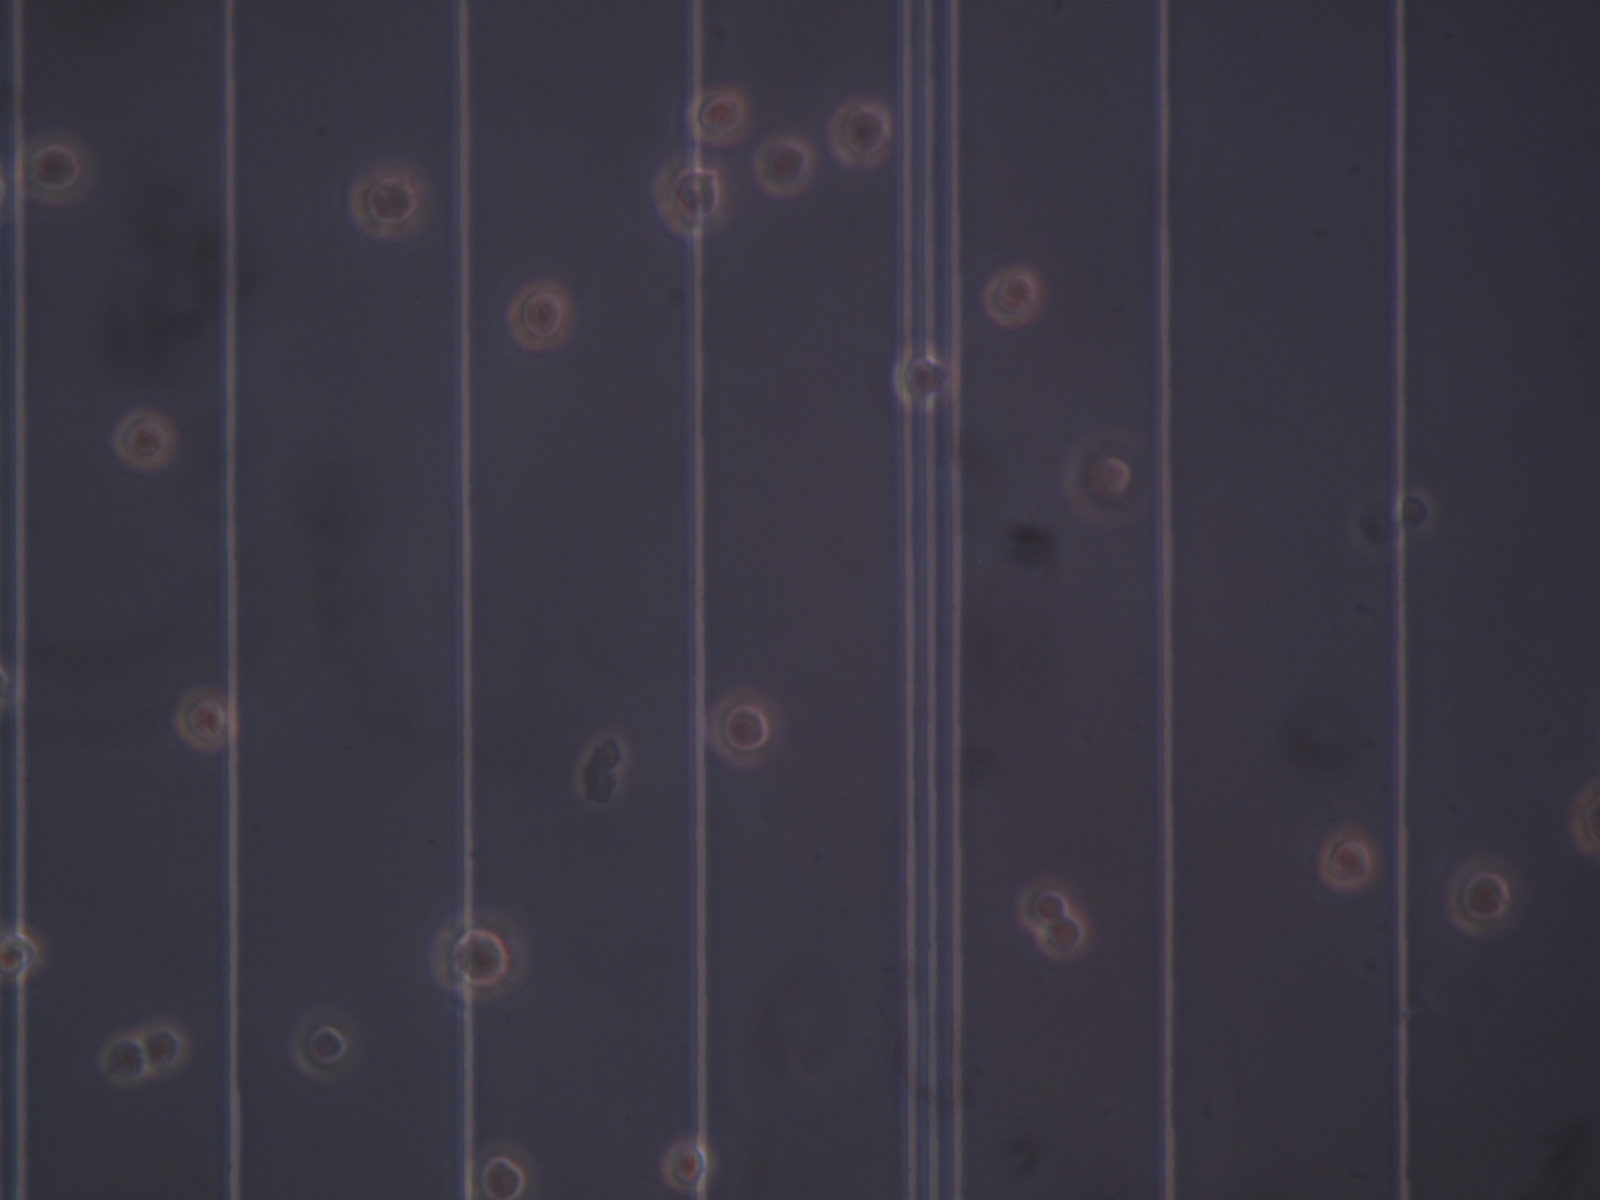hemo: (430, 908, 529, 1003), (346, 159, 430, 239), (1062, 432, 1133, 527), (653, 154, 729, 239), (19, 129, 94, 207), (708, 687, 781, 766), (1446, 856, 1517, 937), (506, 279, 573, 352), (826, 100, 893, 169), (465, 1139, 535, 1200), (290, 1011, 349, 1082), (173, 688, 237, 751), (687, 84, 750, 147), (111, 408, 175, 470), (753, 135, 815, 198), (892, 350, 954, 411), (981, 266, 1042, 328), (1318, 829, 1376, 891), (98, 1034, 150, 1087), (1015, 880, 1070, 930), (660, 1139, 711, 1192), (142, 1018, 186, 1075), (1569, 779, 1600, 858), (1037, 915, 1087, 961), (1, 926, 39, 984), (1393, 487, 1434, 538)
